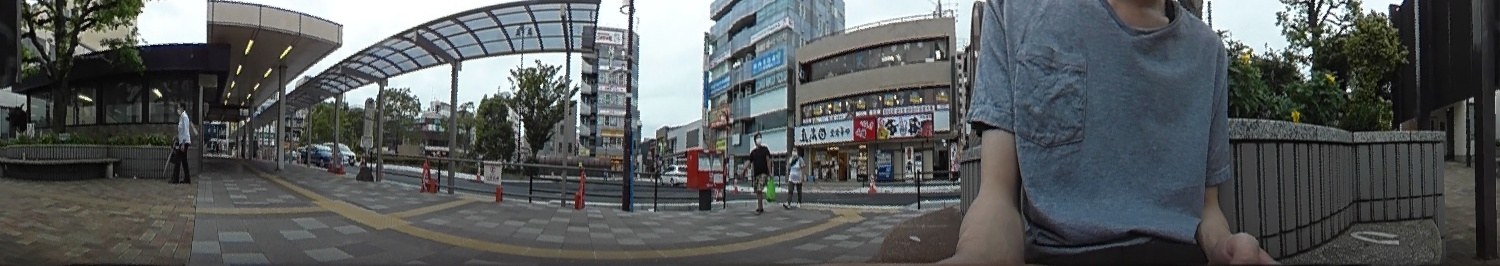difficult_person: (199, 134, 258, 249)
person: (745, 133, 773, 212), (170, 99, 193, 186), (782, 144, 805, 209)
